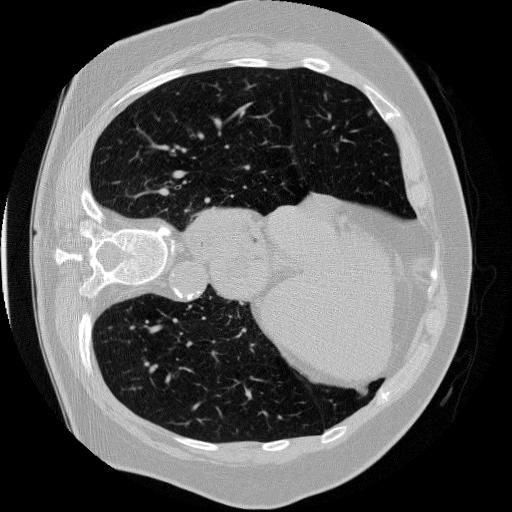nodule: (365, 107, 377, 119)
